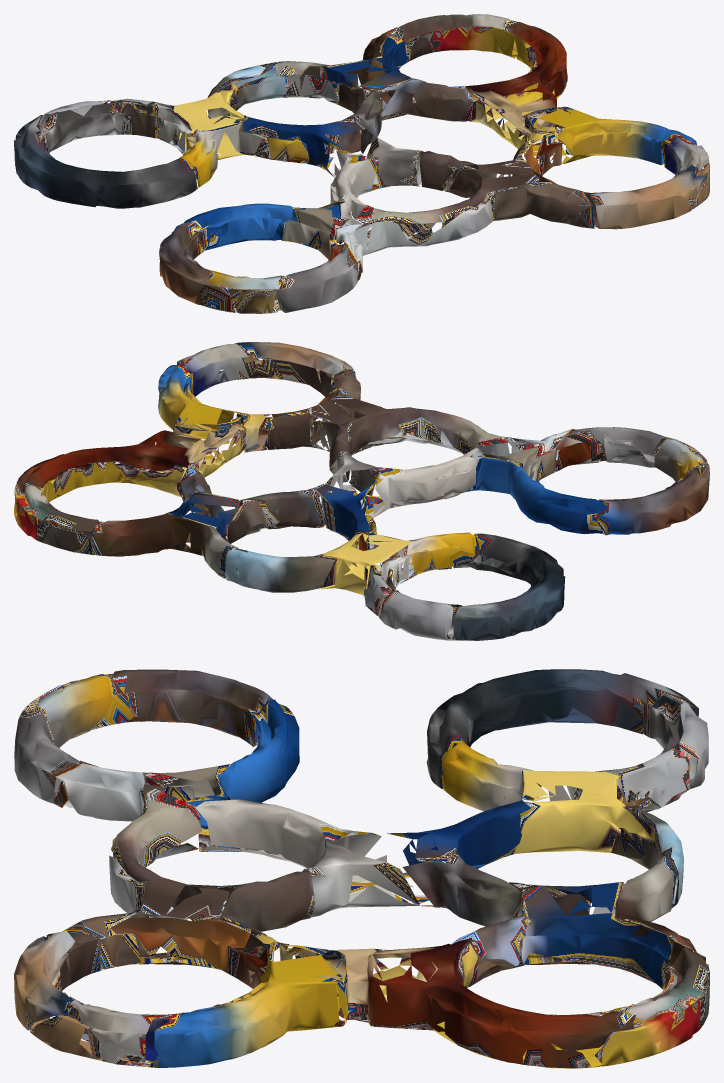
File: plastik-sixpack-ring.glb
3 renders of one model, top to bottom at view 1: azimuth 30°, elevation 25°; view 2: azimuth 150°, elevation 25°; view 3: azimuth 270°, elevation 25°, orthographic. The views are drawn at different scales.
Visible parts, largest first — view 1: plastik-sixpack-ring; view 2: plastik-sixpack-ring; view 3: plastik-sixpack-ring.
Part boxes in pixels (x1,y1,x2,y2): plastik-sixpack-ring: (14, 14, 709, 313); plastik-sixpack-ring: (14, 342, 709, 640); plastik-sixpack-ring: (14, 669, 709, 1068).
Bounding box in the file's own units: 0.1141 × 0.00757 × 0.0919.
1 material, 1 textured.
